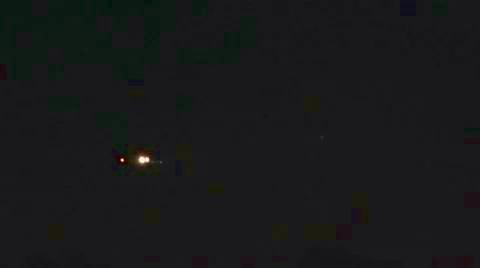Plane: (85, 132, 186, 185)
